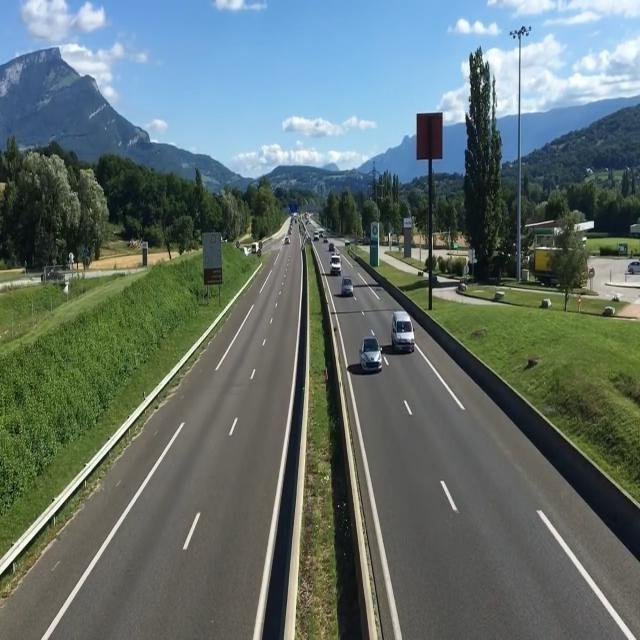Car: (358, 336, 384, 373), (341, 276, 354, 297), (328, 242, 334, 252), (284, 236, 290, 244)
Van: (392, 311, 417, 354), (330, 252, 342, 276), (313, 230, 319, 242)
